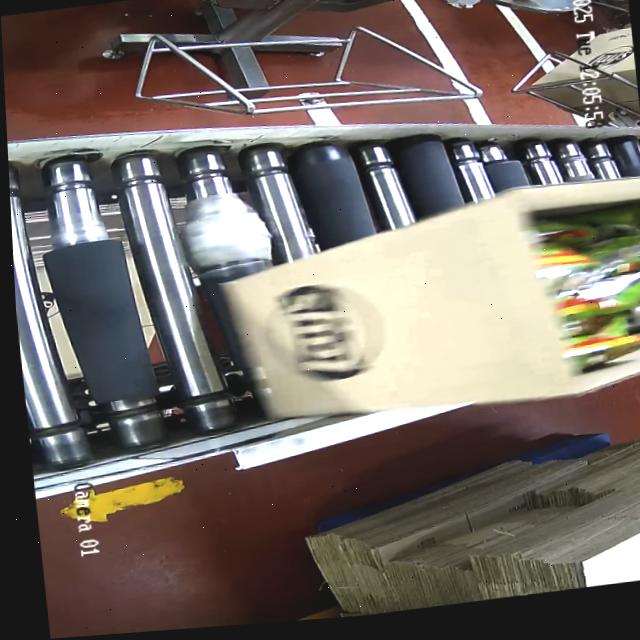YOGURT_HERB: (537, 206, 640, 366)
